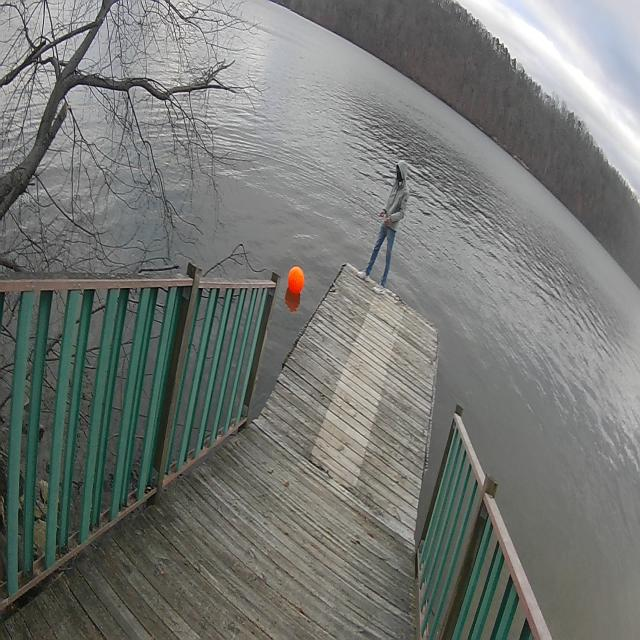Buoy: (289, 261, 306, 298)
